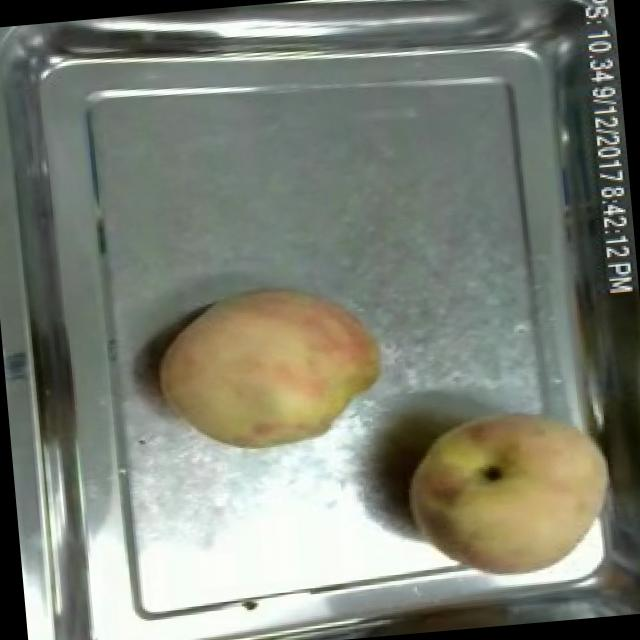Fruit: (387, 391, 627, 604), (143, 271, 391, 469)
